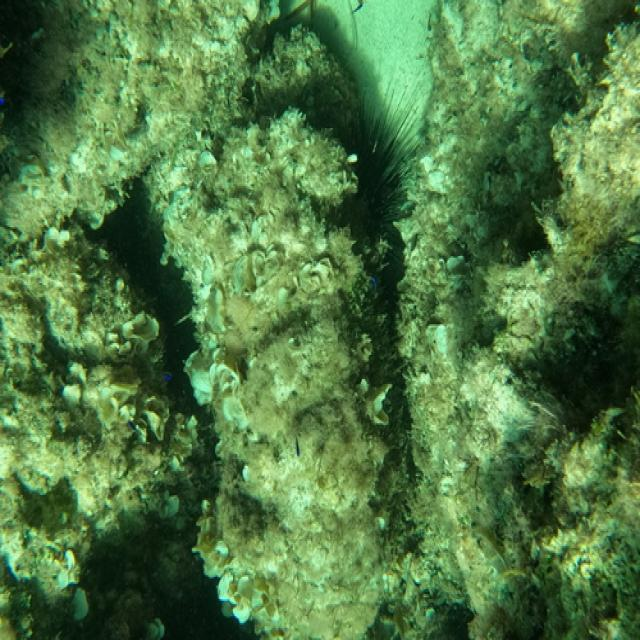Urchin: (314, 84, 428, 258)
